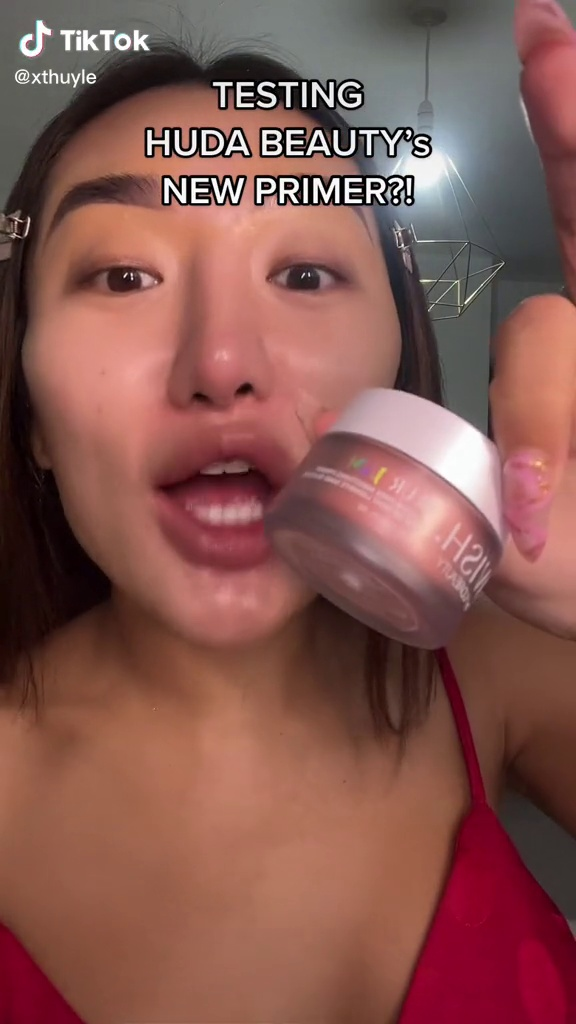train' :'yolo_data/train/images',: (251, 375, 521, 659)
